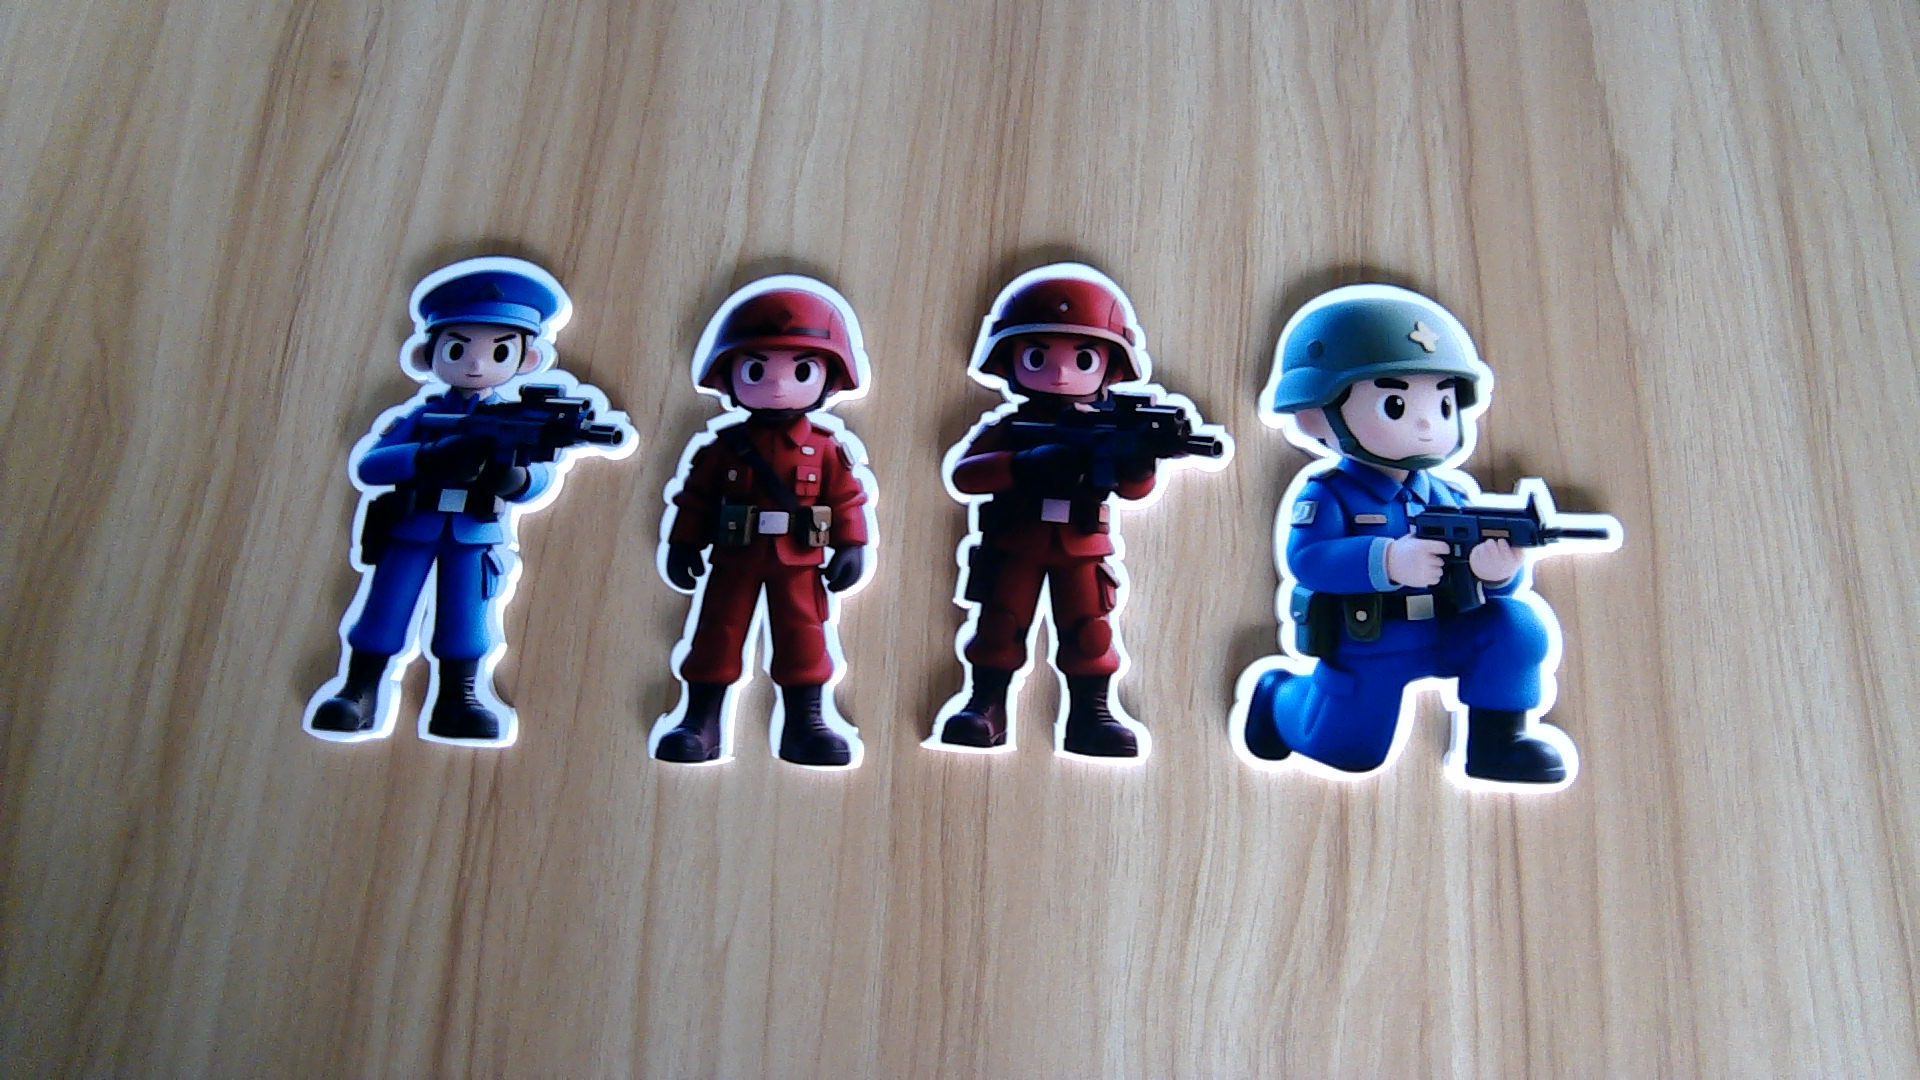敌人1: (920, 396, 1226, 771), (647, 413, 877, 770)
敌人2: (1226, 456, 1625, 800), (295, 393, 638, 756)
